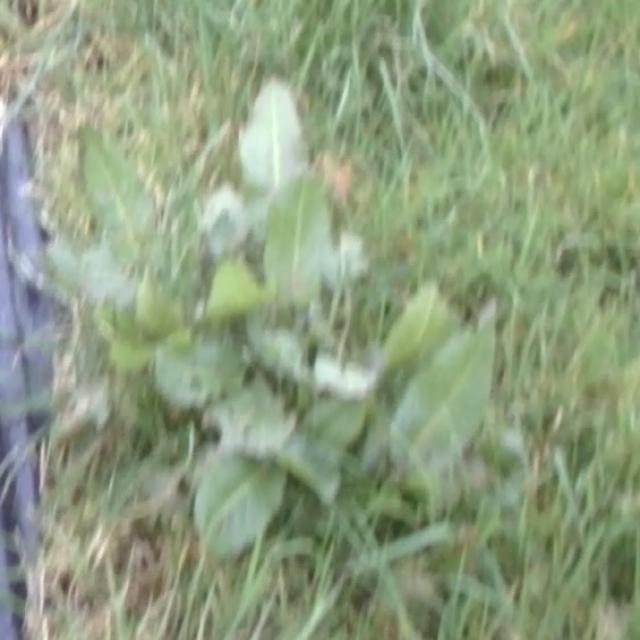organic waste: (51, 99, 510, 596)
